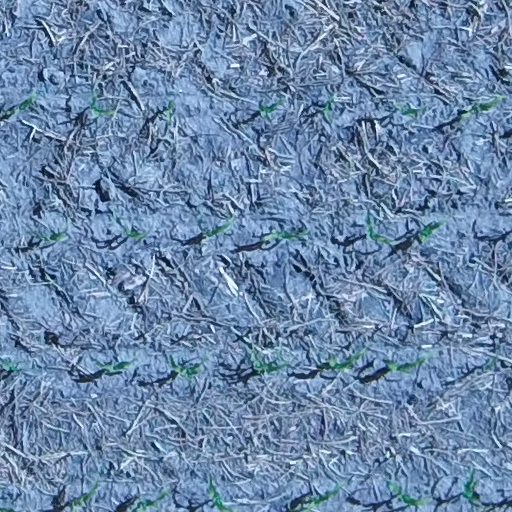planta: (384, 477, 433, 510), (244, 345, 293, 377), (457, 91, 507, 121), (321, 345, 369, 375), (383, 349, 434, 376), (362, 212, 397, 248), (2, 88, 40, 118), (166, 354, 205, 383), (86, 87, 117, 121), (198, 214, 236, 241), (458, 465, 483, 506), (260, 225, 310, 245), (416, 217, 448, 246), (255, 93, 289, 120), (94, 357, 134, 376), (389, 99, 424, 120), (30, 227, 68, 245), (318, 92, 337, 124), (120, 225, 149, 242)
